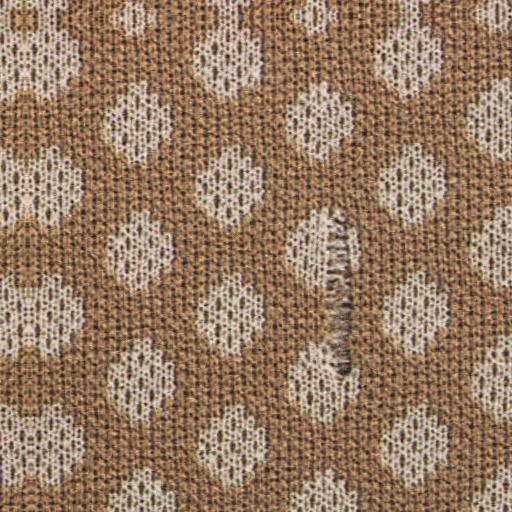slub: (321, 217, 356, 377)
